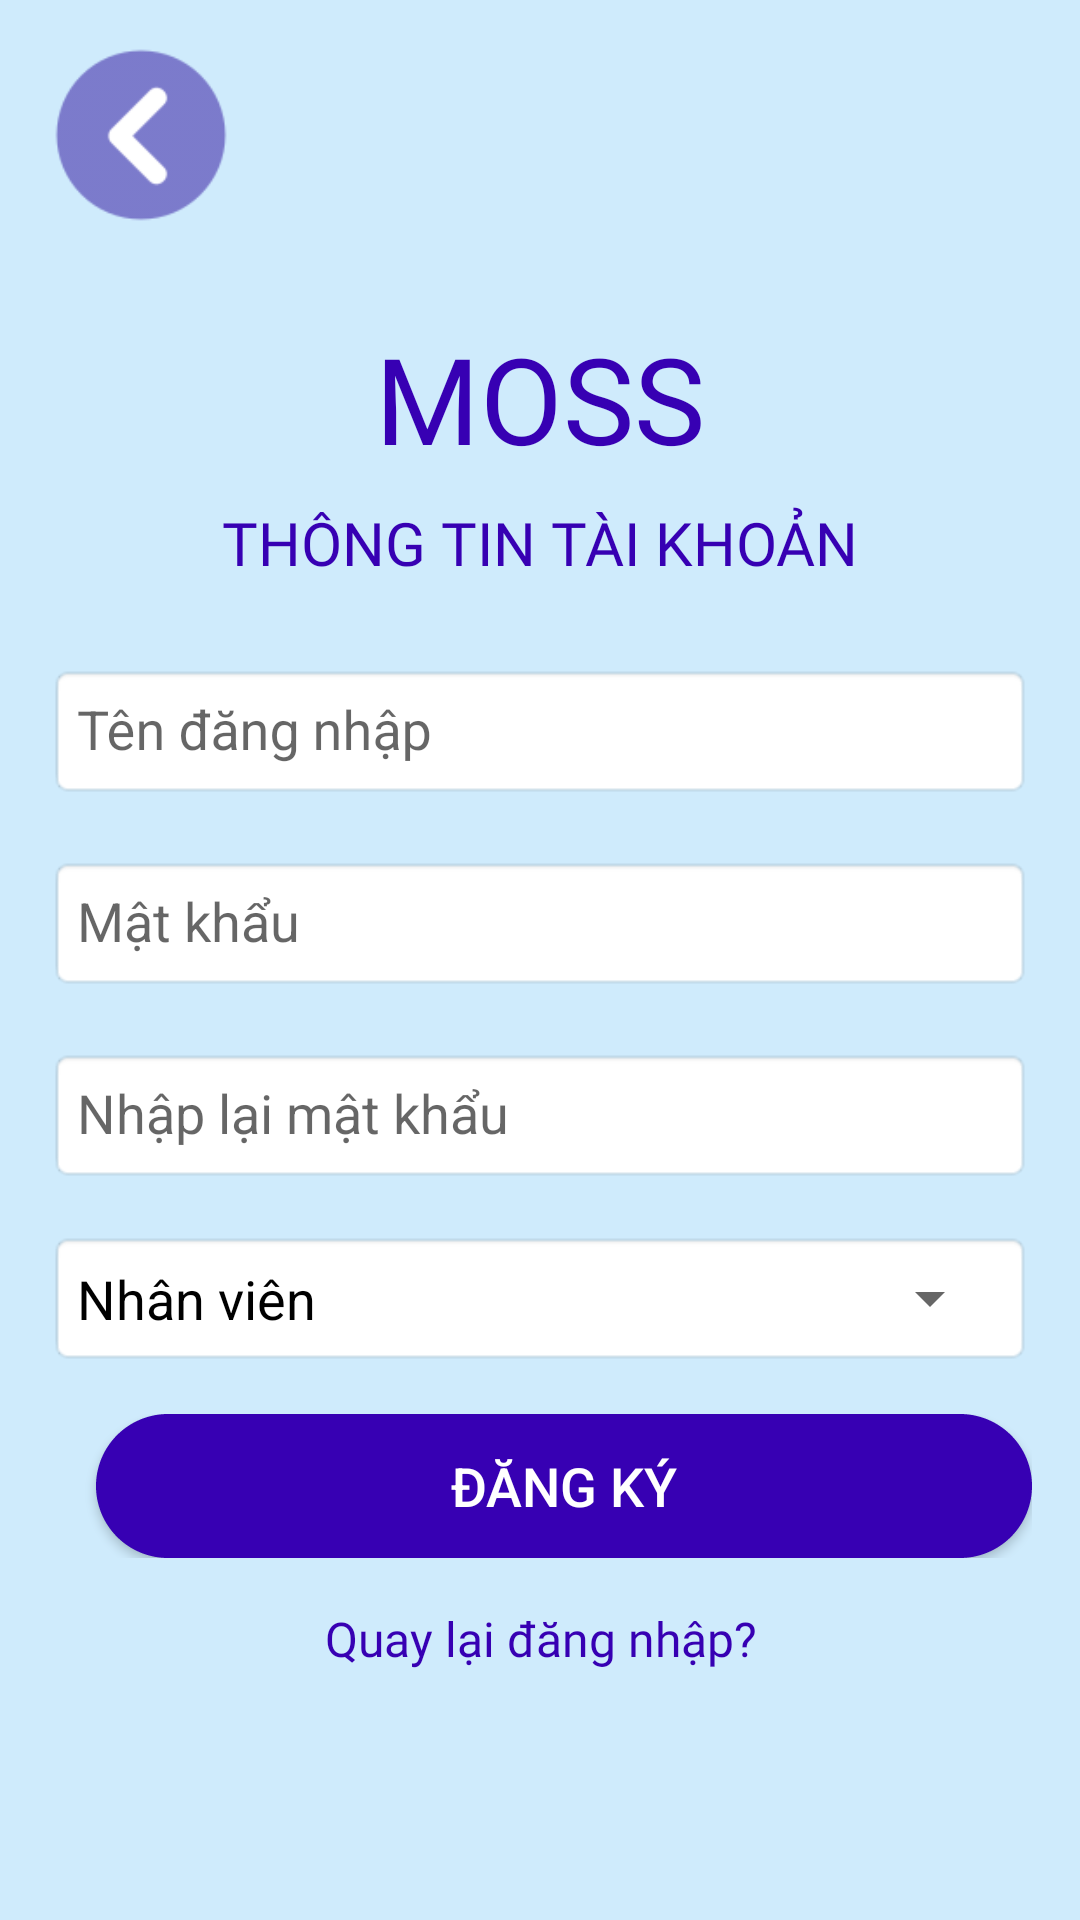

Where icons sit on this 1080*1920 app screen, as [x1,y1,x2,y2]:
back: [56,50,226,220]
